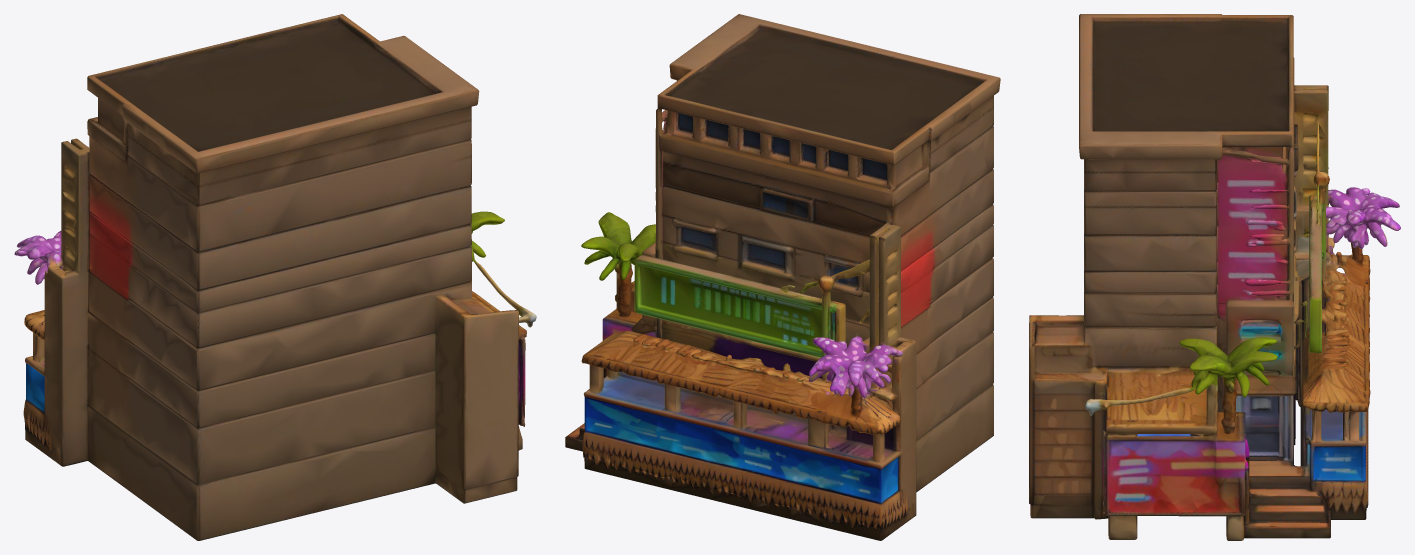
The model's file is waikiki-beach-pub.glb.
The picture shows the model from 3 angles, left to right: view 1: azimuth 30°, elevation 25°; view 2: azimuth 150°, elevation 25°; view 3: azimuth 270°, elevation 25°; orthographic projection. The views are drawn at different scales.
Visible parts, largest first — view 1: tripo_node_ce1c1ba1-e0fa-4170-9742-dce0826f14b3; view 2: tripo_node_ce1c1ba1-e0fa-4170-9742-dce0826f14b3; view 3: tripo_node_ce1c1ba1-e0fa-4170-9742-dce0826f14b3.
Boxes of the visible parts, left/top/right/bottom form: tripo_node_ce1c1ba1-e0fa-4170-9742-dce0826f14b3: left=14, top=14, right=536, bottom=540; tripo_node_ce1c1ba1-e0fa-4170-9742-dce0826f14b3: left=565, top=14, right=1000, bottom=540; tripo_node_ce1c1ba1-e0fa-4170-9742-dce0826f14b3: left=1029, top=14, right=1400, bottom=540.
Size of the model in its own units: 1 by 0.9322 by 0.8528.
1 material, 1 textured.
